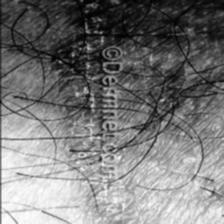Toxin: (60, 0, 97, 197), (91, 185, 127, 209)
